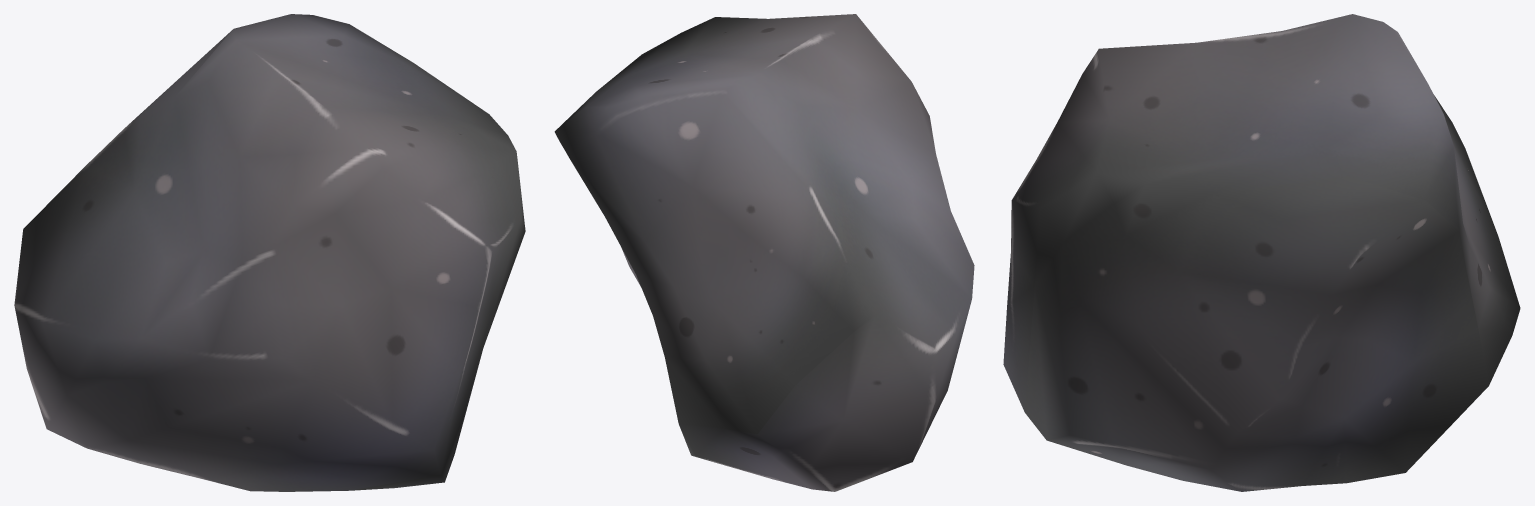
File: rock3.fbx
The picture shows the model from 3 angles, left to right: view 1: azimuth 30°, elevation 25°; view 2: azimuth 150°, elevation 25°; view 3: azimuth 270°, elevation 25°; orthographic projection. The views are drawn at different scales.
Parts seen in each view (by area): view 1: rock3; view 2: rock3; view 3: rock3.
Part boxes in pixels (bbox=[...]): rock3: bbox=[14, 14, 525, 491]; rock3: bbox=[554, 14, 974, 491]; rock3: bbox=[1003, 14, 1520, 491].
Size of the model in its own units: 200 by 189 by 198.
